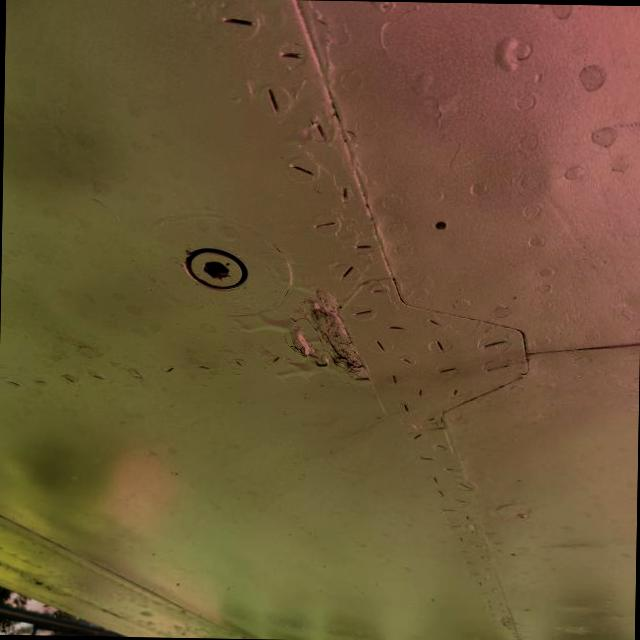Missing Fastener: (433, 220, 448, 232)
